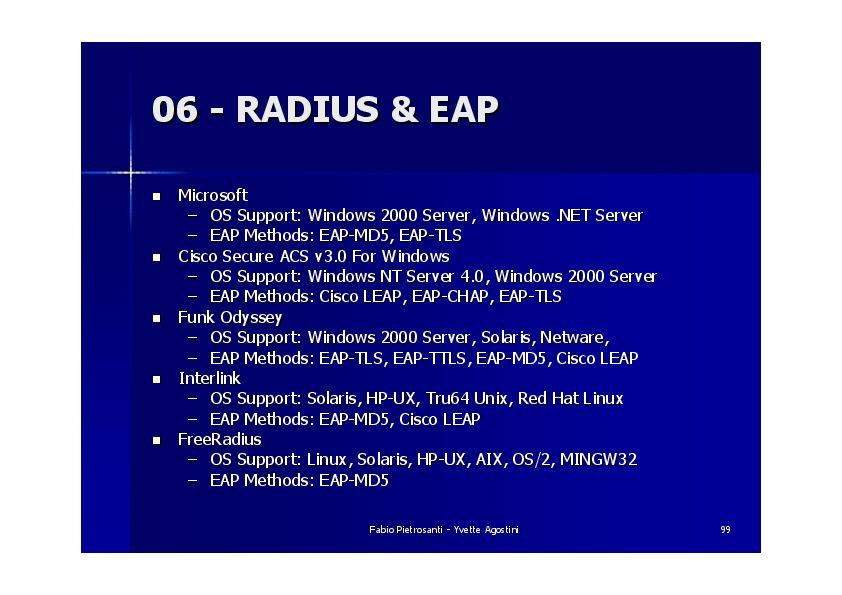paragraph: (137, 175, 679, 501)
title: (143, 77, 518, 140)
